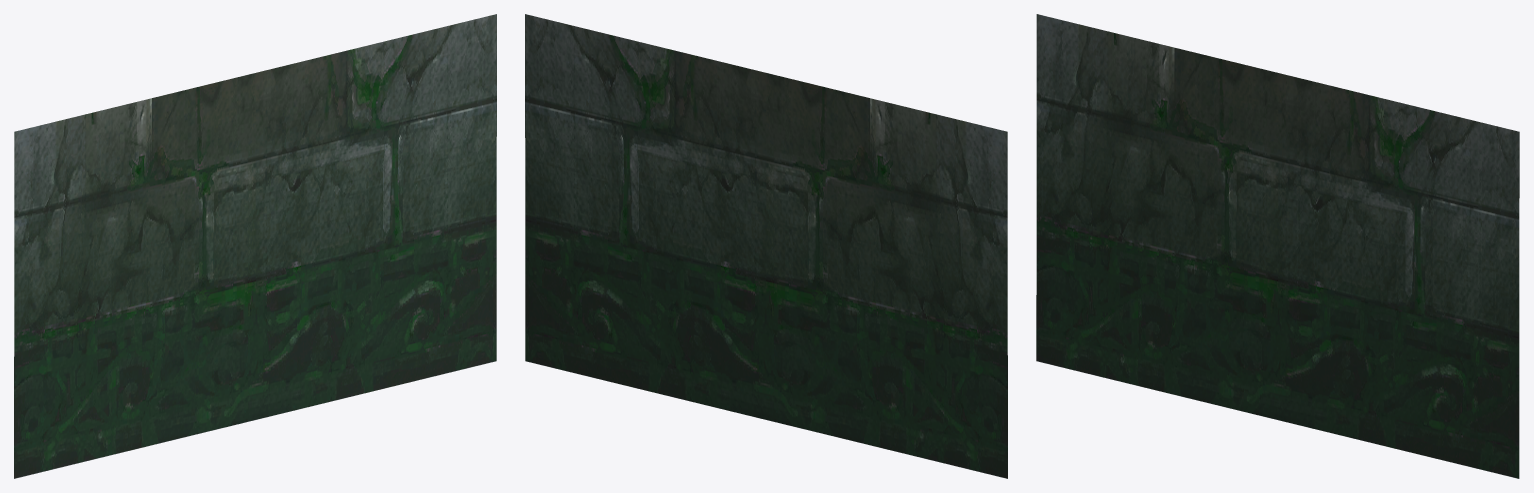
File: stemple_half_straight_10.fbx
3 renders of one model, left to right at view 1: azimuth 30°, elevation 25°; view 2: azimuth 150°, elevation 25°; view 3: azimuth 330°, elevation 25°, orthographic.
Parts seen in each view (by area): view 1: sunken_tileset/sunken_wall_straight05_mat; view 2: sunken_tileset/sunken_wall_straight05_mat; view 3: sunken_tileset/sunken_wall_straight05_mat.
Boxes of the visible parts, <box> form: sunken_tileset/sunken_wall_straight05_mat: <box>14,14,496,478</box>; sunken_tileset/sunken_wall_straight05_mat: <box>525,14,1007,478</box>; sunken_tileset/sunken_wall_straight05_mat: <box>1036,14,1519,478</box>.
Bounding box in the file's own units: 4 × 2.75 × 0.00037.
